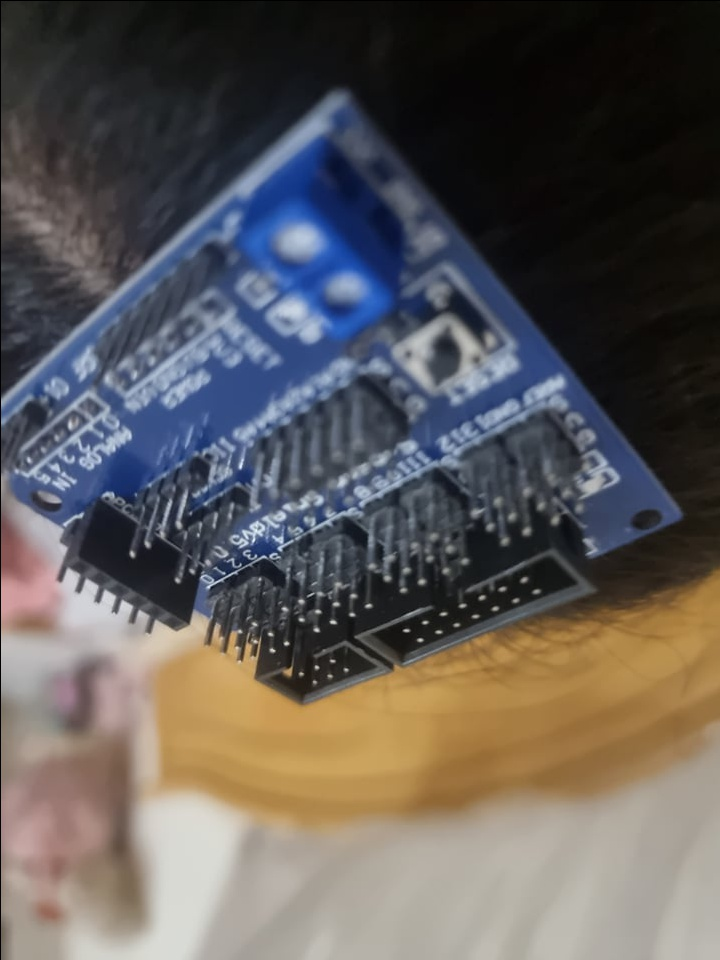5V EXPANSION: (0, 87, 678, 712)
